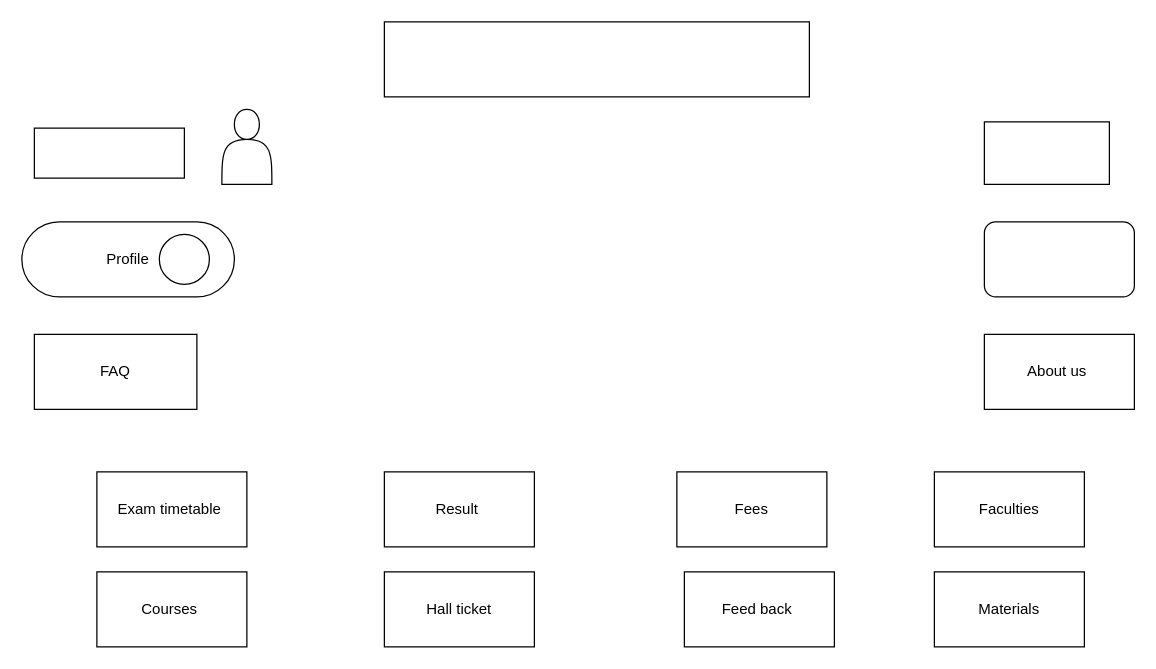
This 1156x669 diagram has some shape labels left out. Each missing label, with the centre of its shape:
Contact Us: (1058,259)
Login: (108,152)
Sign In: (1046,152)
STUDENT HUB PORTAL: (596,59)
